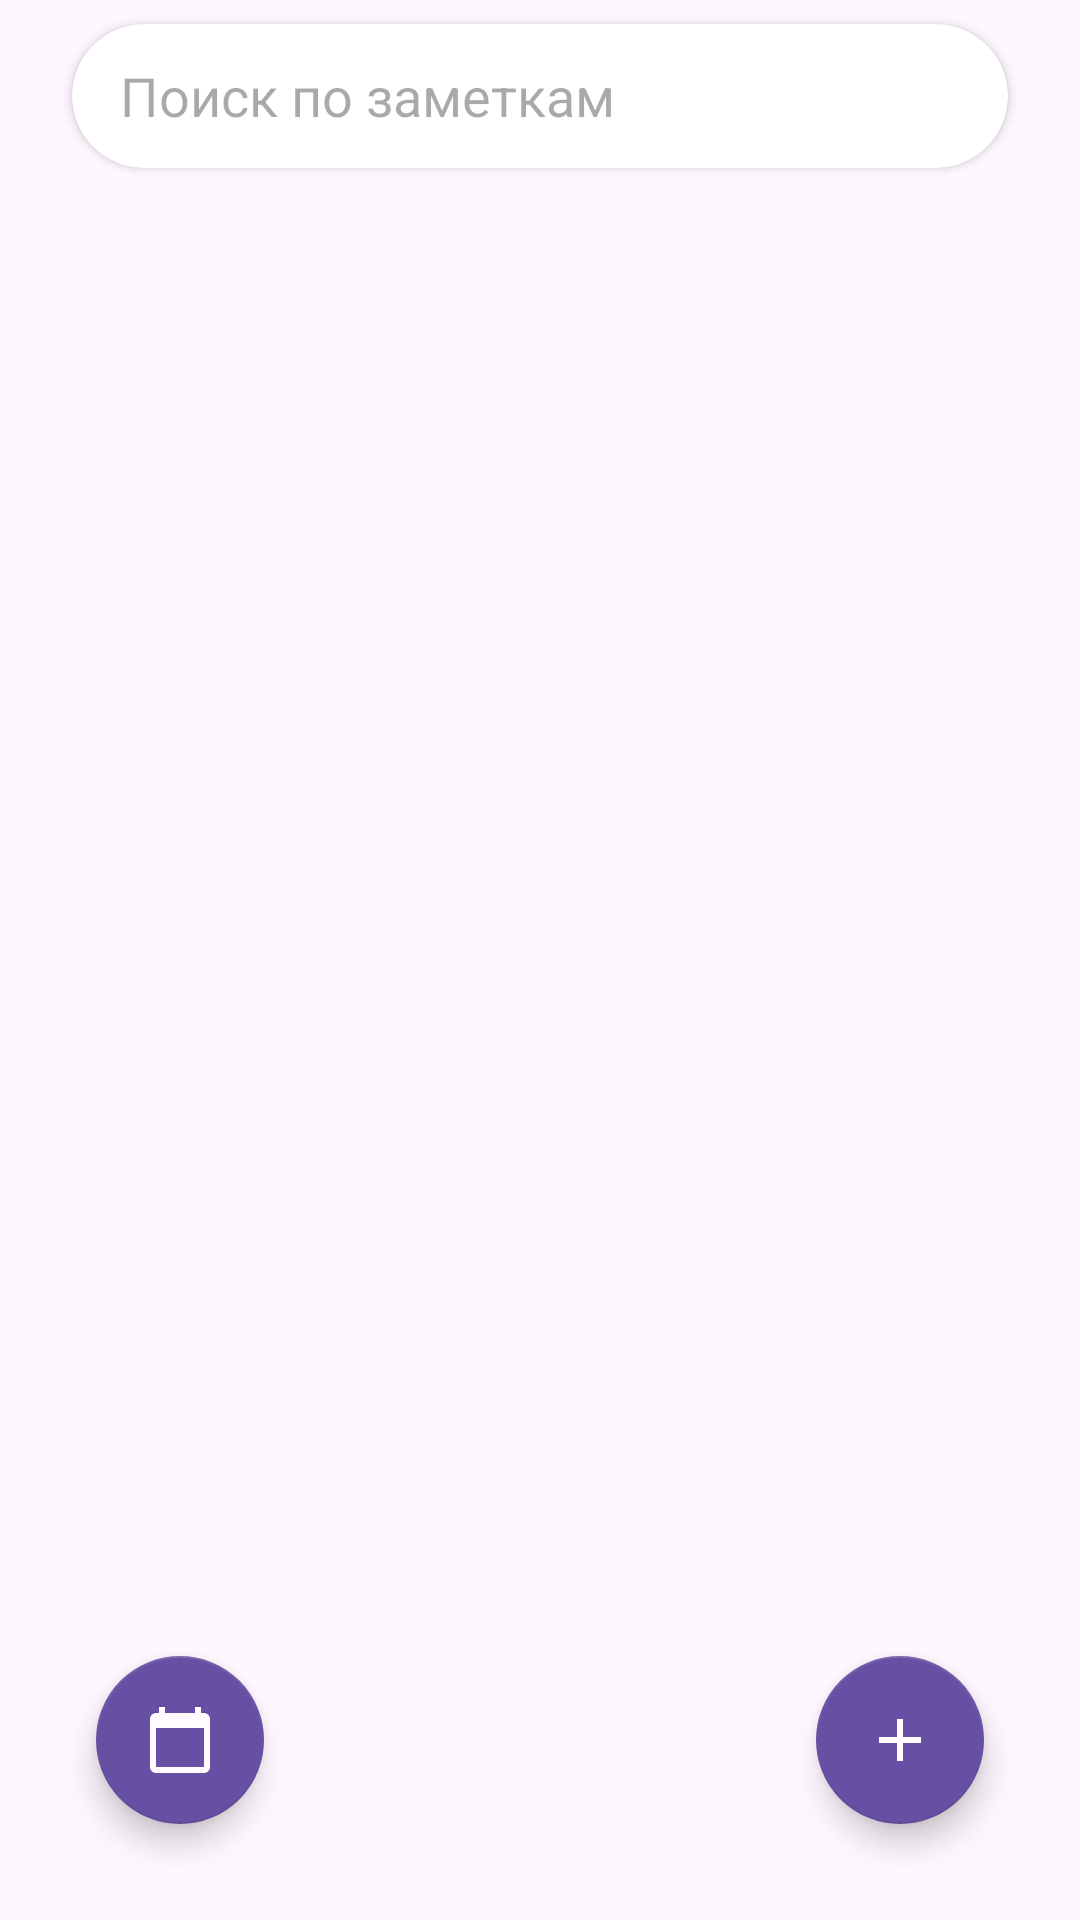

Screen size 1080px x 1920px. Icon name, then its center in pixels as [x,y]:
add: [900,1740]
calendar: [180,1740]
